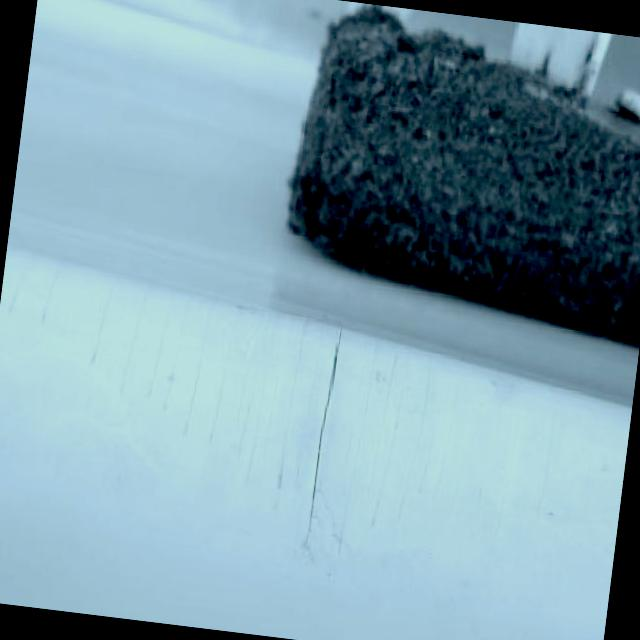crack: (304, 324, 346, 542)
